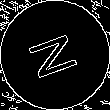N_E: (25, 28, 85, 82)
